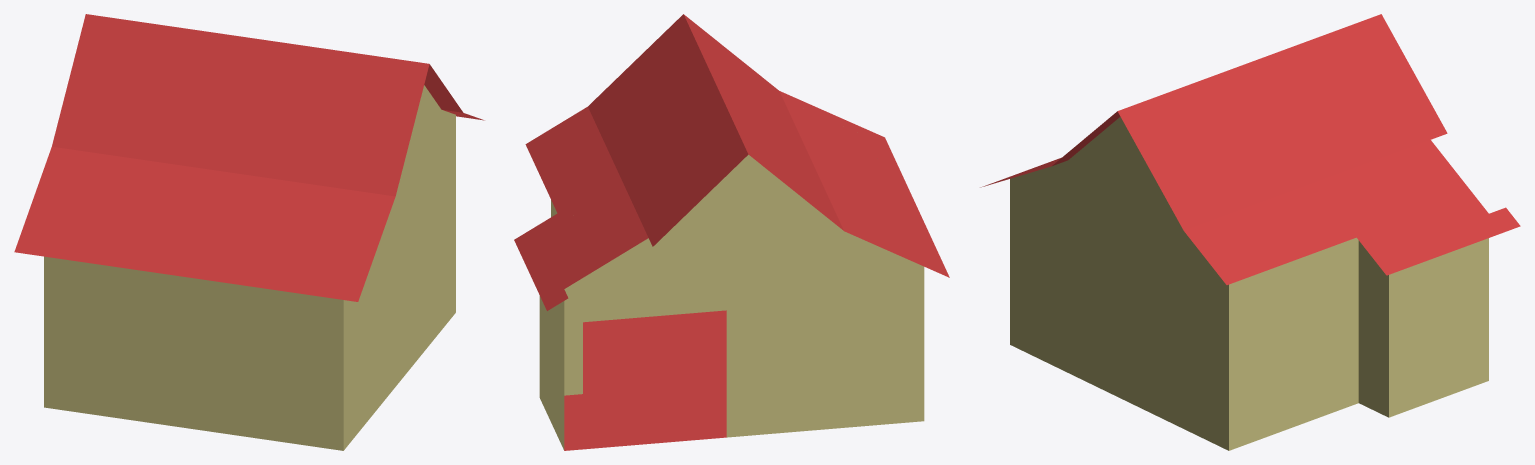
3 renders of one model, left to right at view 1: azimuth 30°, elevation 25°; view 2: azimuth 150°, elevation 25°; view 3: azimuth 270°, elevation 25°, orthographic. The views are drawn at different scales.
Bounding box in the file's own units: 17.14 × 18.04 × 11.02.
